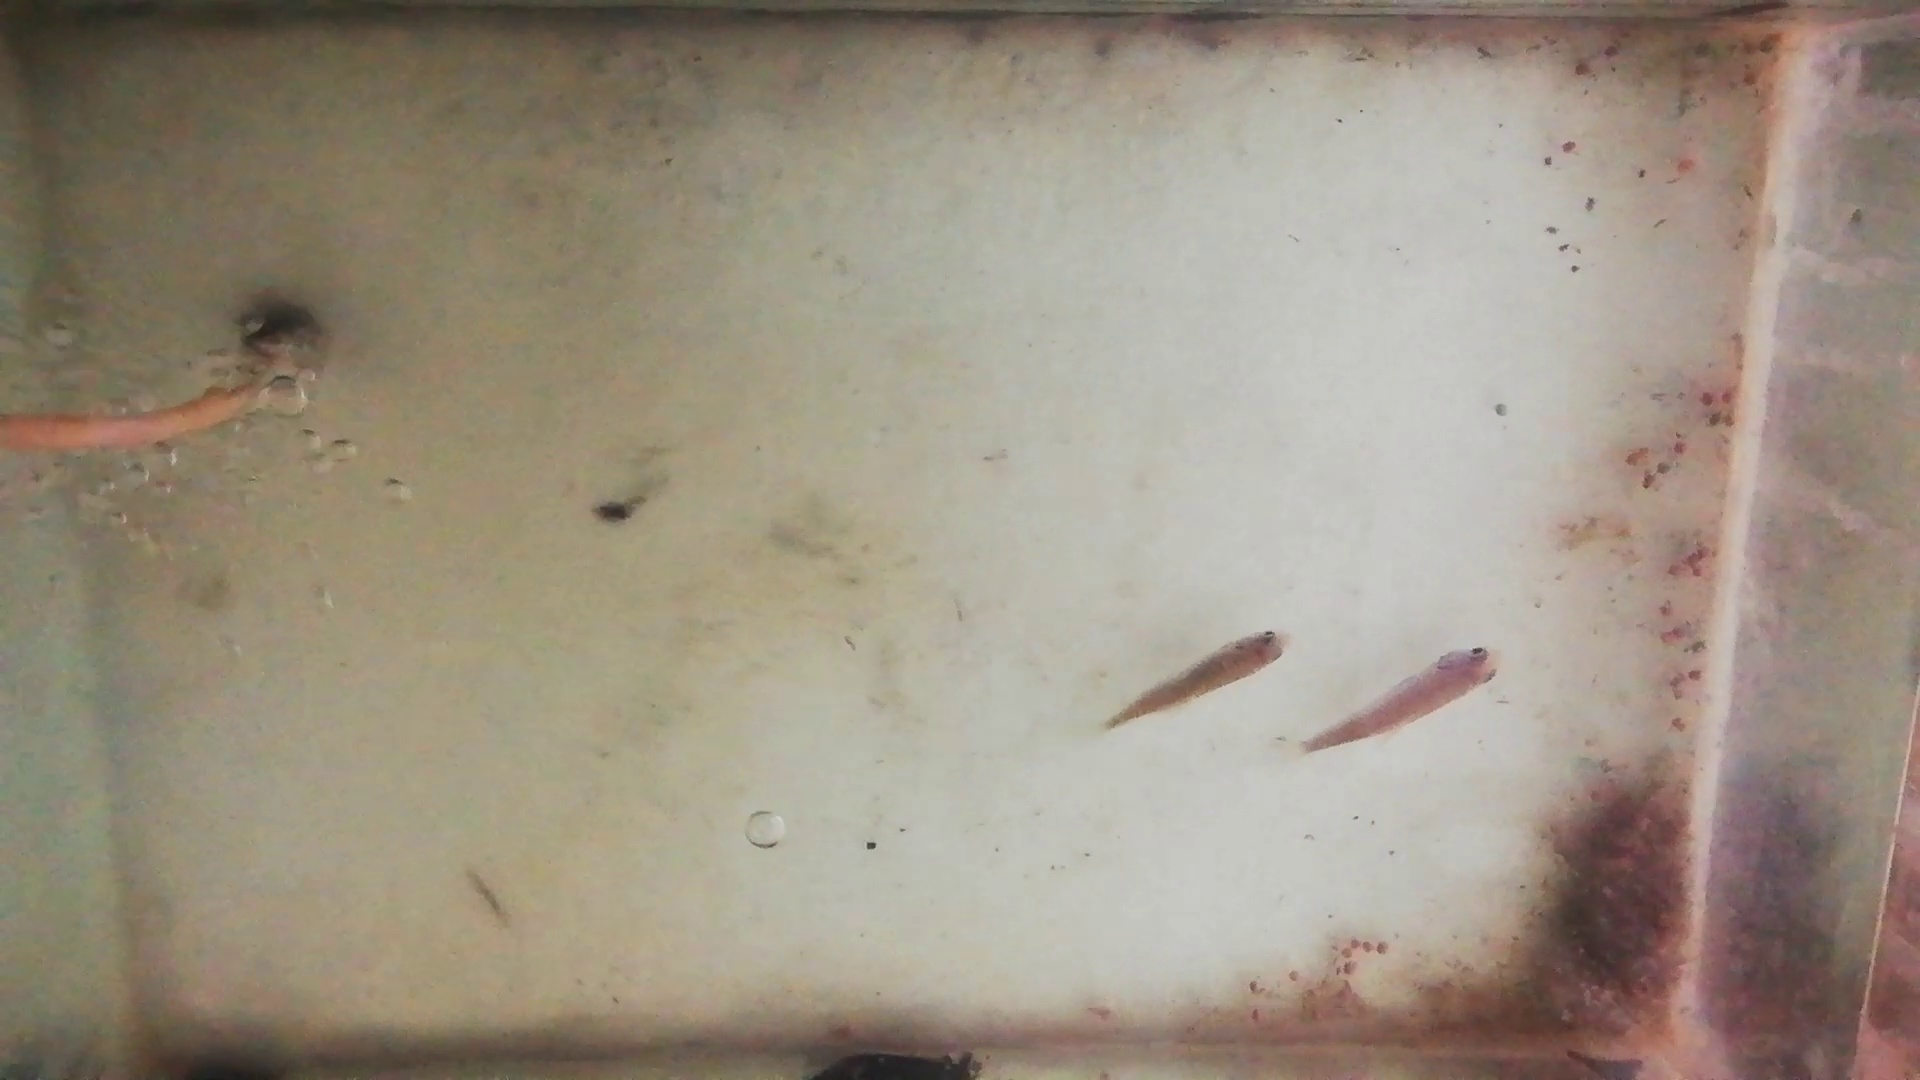fish: (1305, 644, 1505, 753), (1104, 633, 1292, 723)
